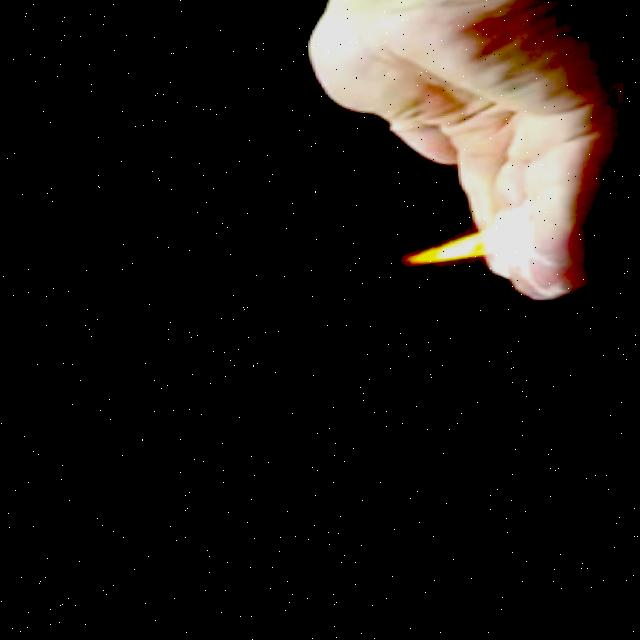Smoke: (398, 220, 523, 277)
